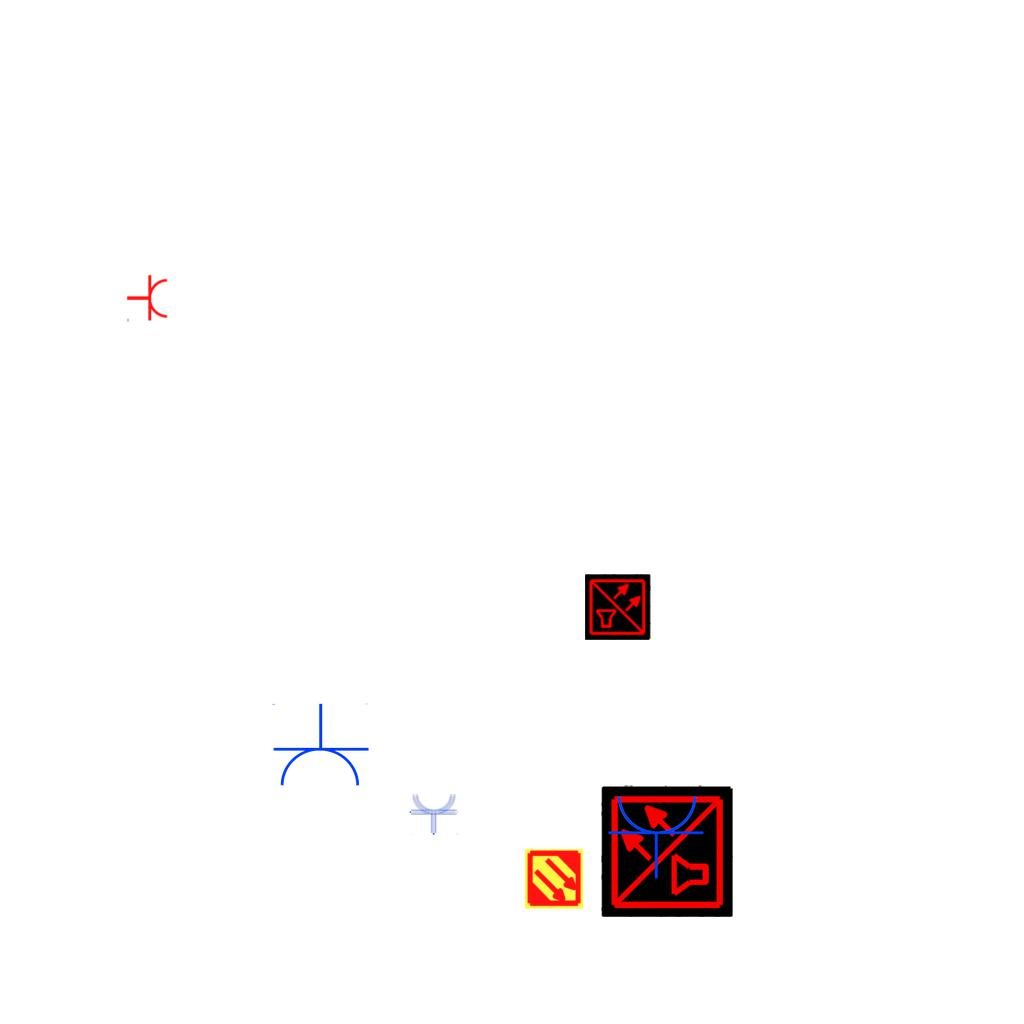ASR_Ansaugrauchmelder: (523, 848, 585, 910)
OKW_Multisensormelder_(Kombination_optischer_Rauch-Kahlenmonoxid_Waerme-Melder): (601, 785, 733, 917), (585, 574, 651, 640)
Schukosteckdose_einfach: (270, 703, 370, 790), (607, 792, 707, 879), (126, 274, 169, 324), (409, 792, 459, 835)
